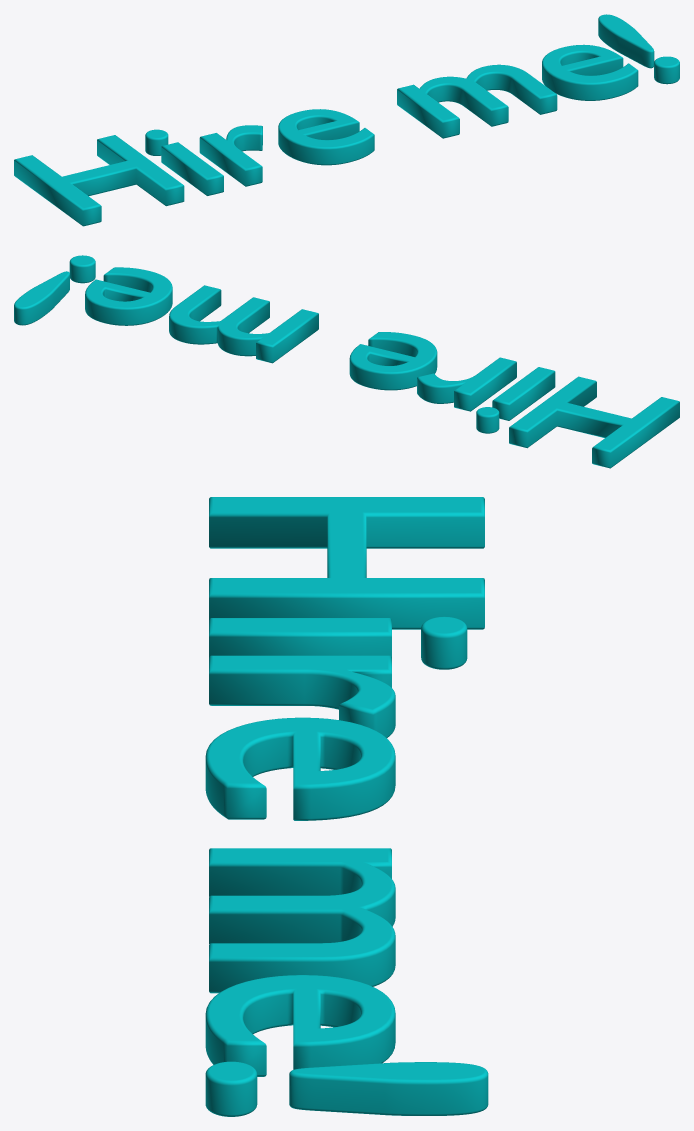
The model's file is HireMe.obj.
The picture shows the model from 3 angles, top to bottom: view 1: azimuth 30°, elevation 25°; view 2: azimuth 150°, elevation 25°; view 3: azimuth 270°, elevation 25°; orthographic projection. The views are drawn at different scales.
Parts seen in each view (by area): view 1: Text; view 2: Text; view 3: Text.
Boxes of the visible parts, x1=… form: Text: x1=14, y1=14, x2=679, y2=226; Text: x1=14, y1=255, x2=679, y2=468; Text: x1=205, y1=497, x2=488, y2=1116.
Bounding box in the file's own units: 3.48 × 0.1 × 0.71.
